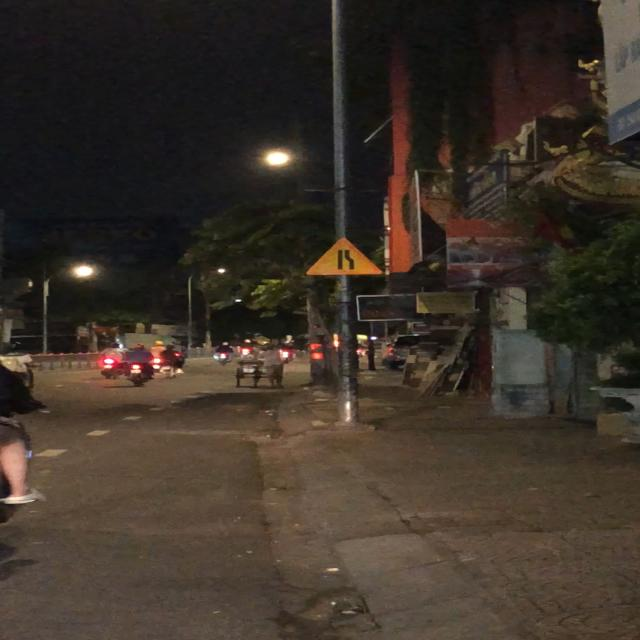Bien bao duong bi thu hep: (302, 237, 383, 277)
